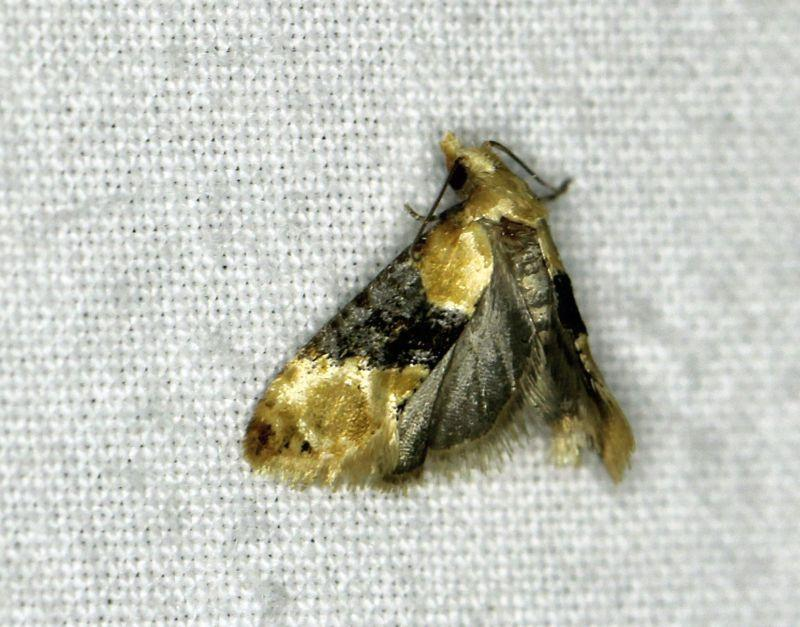Eupoecilia Ambiguella: (238, 127, 637, 494)
